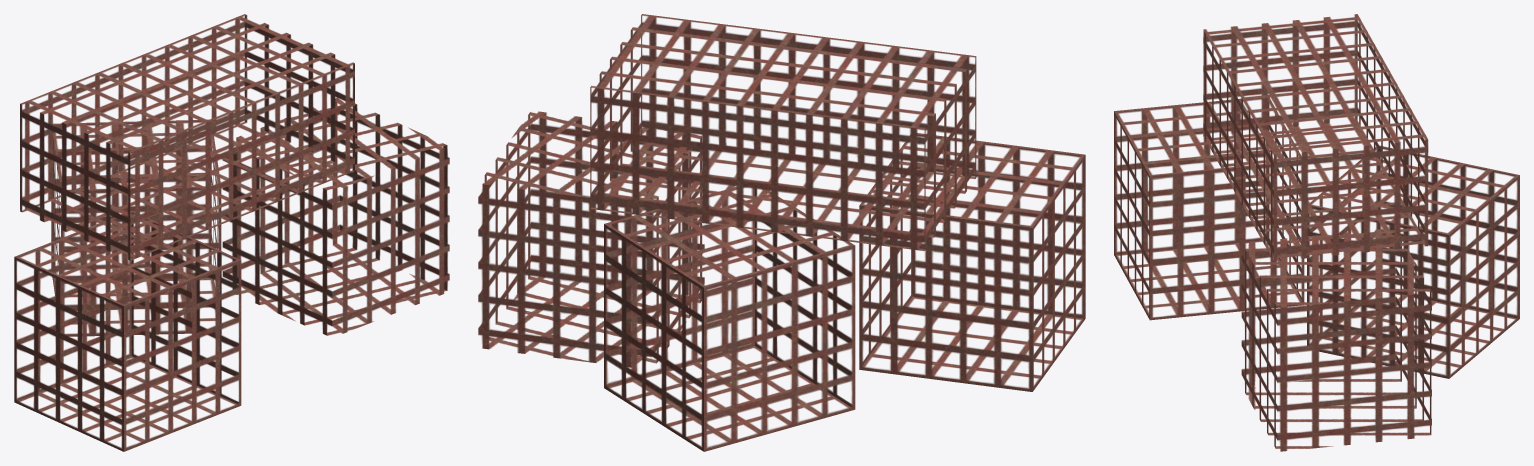
File: cages_4_stack.glb
3 renders of one model, left to right at view 1: azimuth 30°, elevation 25°; view 2: azimuth 150°, elevation 25°; view 3: azimuth 270°, elevation 25°, orthographic. The views are drawn at different scales.
Visible parts, largest first — view 1: cages_4_stack_Baked; view 2: cages_4_stack_Baked; view 3: cages_4_stack_Baked.
Part boxes in pixels (x1,y1,x2,y2): cages_4_stack_Baked: (14,14,449,451); cages_4_stack_Baked: (478,14,1085,451); cages_4_stack_Baked: (1114,14,1519,451).
Bounding box in the file's own units: 3.16 × 1.74 × 2.56.
Materials: 1 (1 with a texture image).
